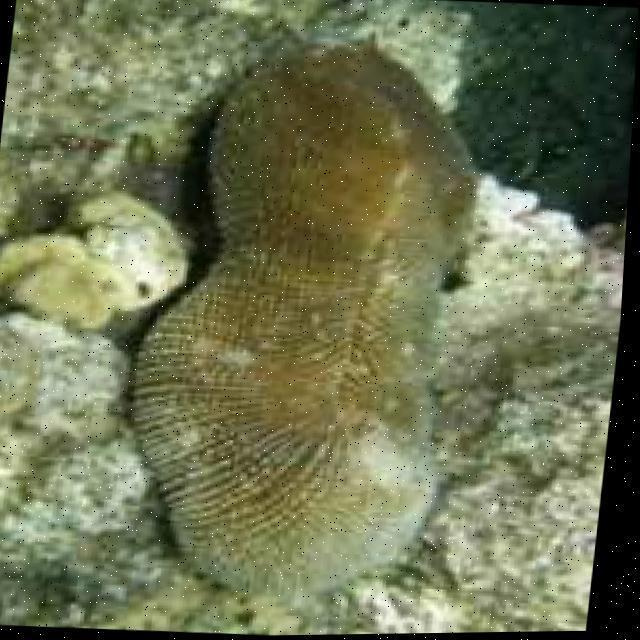Healthy Coral: (105, 34, 499, 618)
